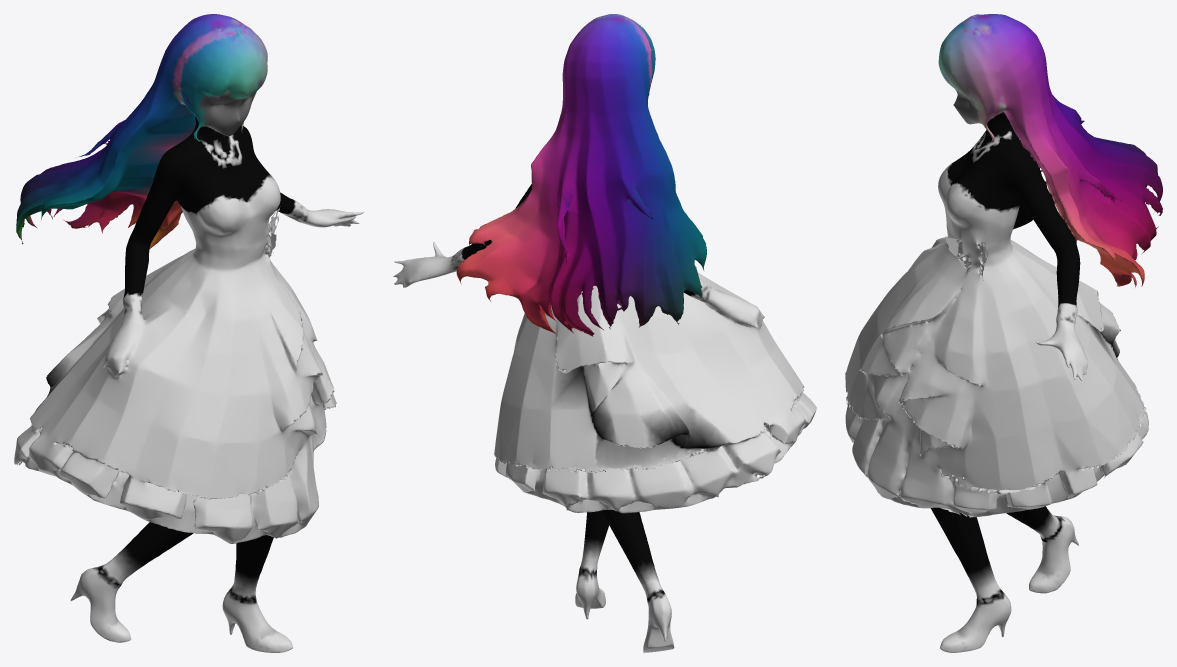
Rendered from SK_Cartoon_32_H.FBX.
The picture shows the model from 3 angles, left to right: view 1: azimuth 30°, elevation 25°; view 2: azimuth 150°, elevation 25°; view 3: azimuth 270°, elevation 25°; orthographic projection. The views are drawn at different scales.
Visible parts, largest first — view 1: SK_Cartoon_Female_0320; view 2: SK_Cartoon_Female_0320; view 3: SK_Cartoon_Female_0320.
Boxes of the visible parts, left/top/right/bottom form: SK_Cartoon_Female_0320: left=14, top=14, right=363, bottom=652; SK_Cartoon_Female_0320: left=393, top=14, right=816, bottom=652; SK_Cartoon_Female_0320: left=845, top=14, right=1162, bottom=652.
Size of the model in its own units: 97.84 by 157 by 73.84.
